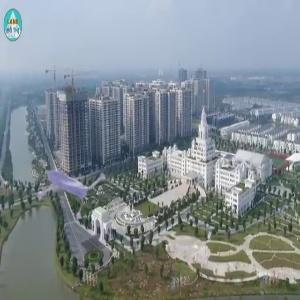drone: (17, 128, 125, 236)
